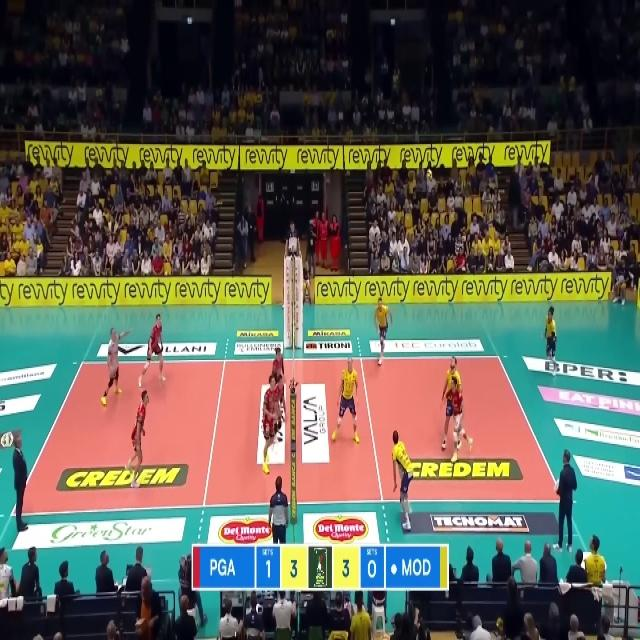volleyball court: (16, 353, 561, 511)
